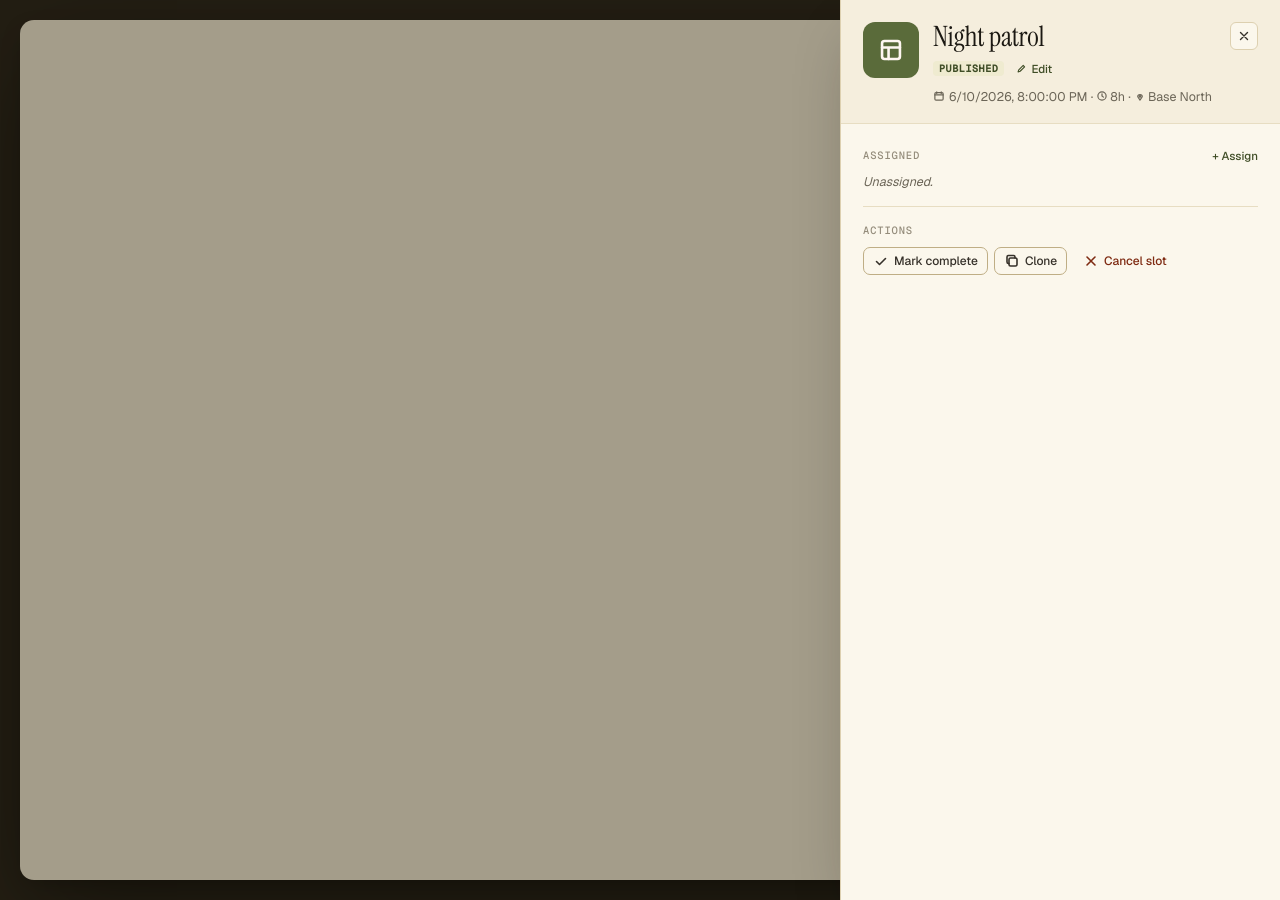
Test: SlotDrawer › shows an empty-state message when no candidates qualify
Click the button "+ Assign": x=1235, y=155 [1212,148,1258,163]
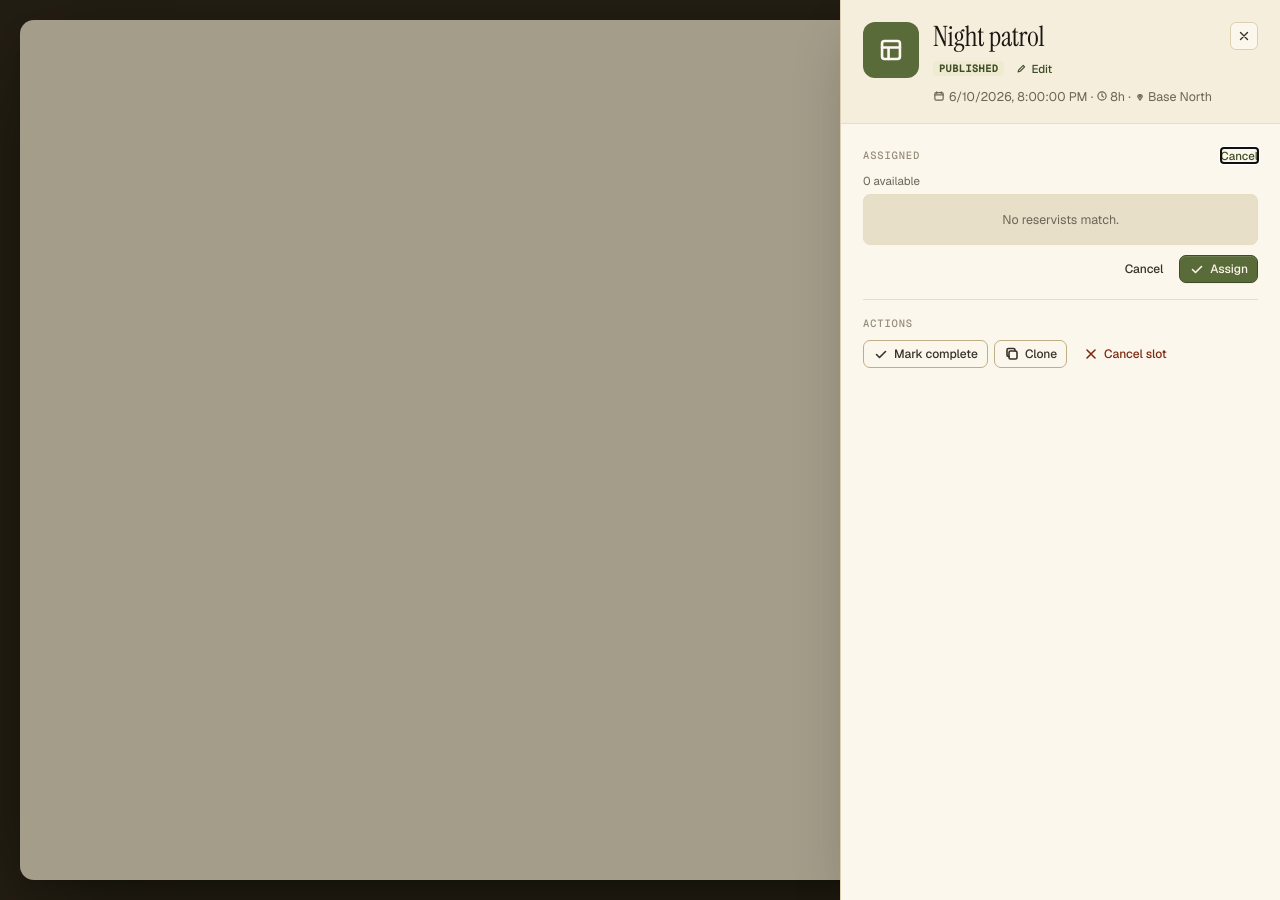
Result: the text "No reservists match." is shown at [1002,211,1119,228]
